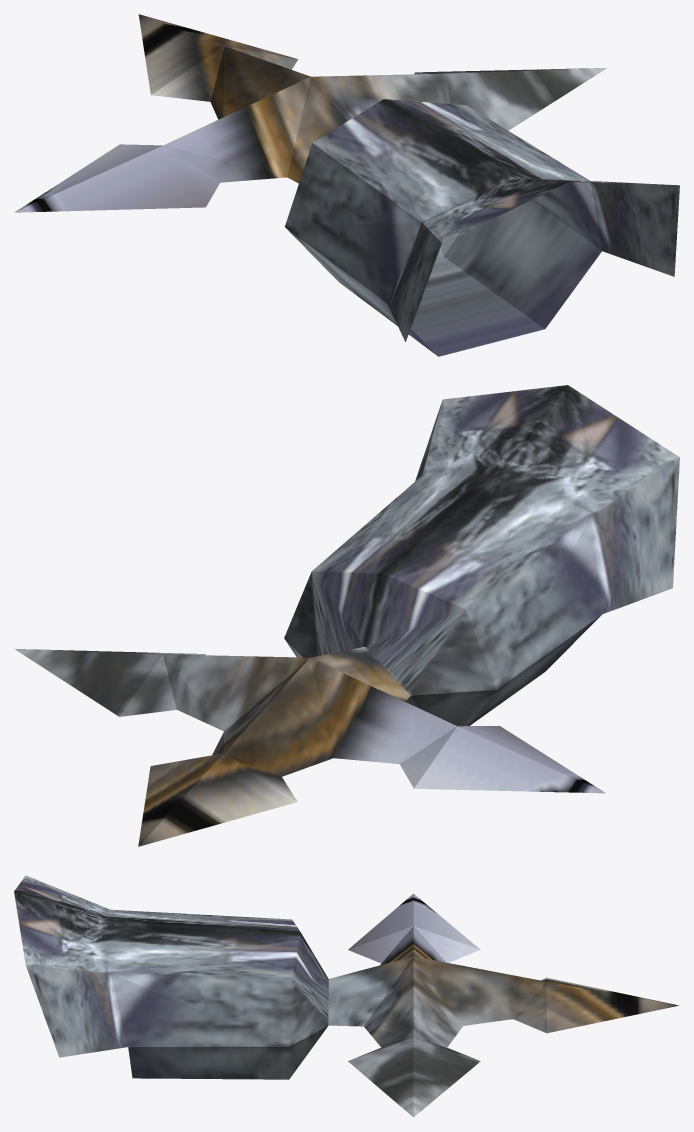
Rendered from twinblade101_1.obj.
3 views of the same model, one above another, from view 1: azimuth 30°, elevation 25°; view 2: azimuth 150°, elevation 25°; view 3: azimuth 270°, elevation 25° (orthographic). The views are drawn at different scales.
Visible parts, largest first — view 1: MDL_cwdhkn01_1r; view 2: MDL_cwdhkn01_1r; view 3: MDL_cwdhkn01_1r.
Part boxes in pixels (x1,y1,x2,y2): MDL_cwdhkn01_1r: (14,14,679,356); MDL_cwdhkn01_1r: (15,385,679,846); MDL_cwdhkn01_1r: (14,875,679,1117).
Bounding box in the file's own units: 0.4525 × 0.1587 × 0.5687.
